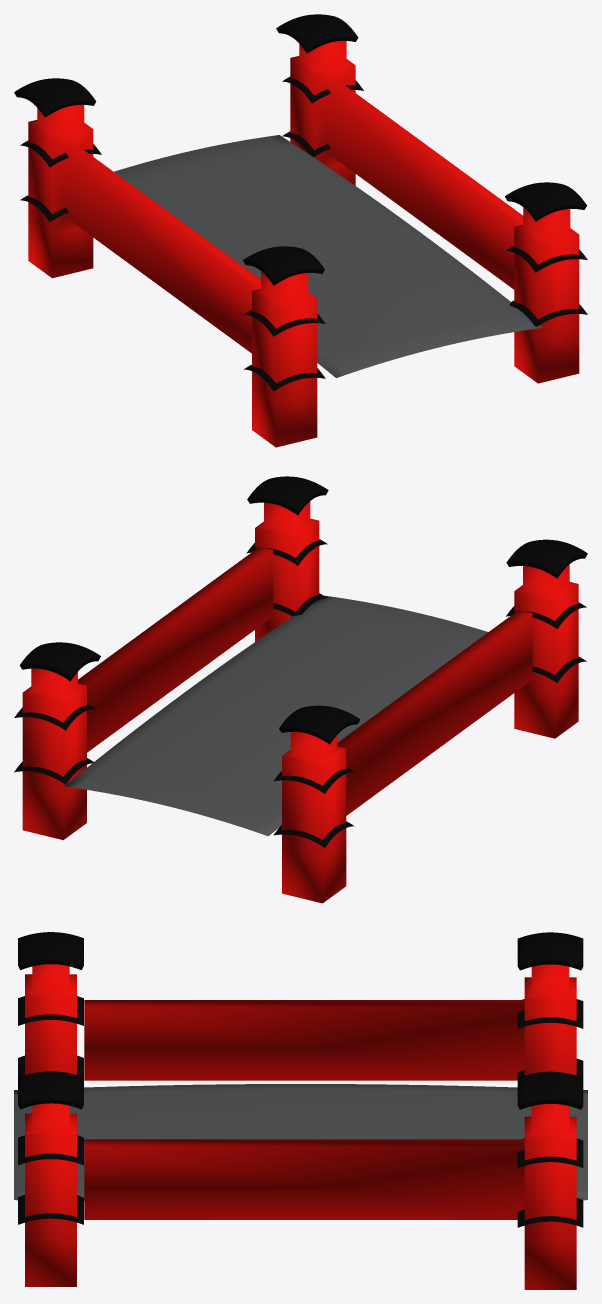
The model's file is japaneceBrige.fbx.
3 views of the same model, one above another, from view 1: azimuth 30°, elevation 25°; view 2: azimuth 150°, elevation 25°; view 3: azimuth 270°, elevation 25° (orthographic). The views are drawn at different scales.
Visible parts, largest first — view 1: NURBSサーフェス, Cube.001, Cube, Cube.002, Cube.003, NURBSサーフェス.002, NURBSサーフェス.008, NURBSサーフェス.012, NURBSサーフェス.004, NURBSサーフェス.011, NURBSサーフェス.007; view 2: NURBSサーフェス, Cube.001, Cube, Cube.002, Cube.003, NURBSサーフェス.012, NURBSサーフェス.004, NURBSサーフェス.002, NURBSサーフェス.008, NURBSサーフェス.003, NURBSサーフェス.006; view 3: Cube, Cube.001, NURBSサーフェス, Cube.003, Cube.002, NURBSサーフェス.004, NURBSサーフェス.002, NURBSサーフェス.012, NURBSサーフェス.008, NURBSサーフェス.011, NURBSサーフェス.007, NURBSサーフェス.010 (+3 smaller).
Boxes of the visible parts, x1=… form: NURBSサーフェス: x1=114, y1=135, x2=542, y2=377; Cube.001: x1=28, y1=105, x2=260, y2=353; Cube: x1=290, y1=41, x2=523, y2=289; Cube.002: x1=252, y1=271, x2=317, y2=447; Cube.003: x1=514, y1=207, x2=579, y2=383; NURBSサーフェス.002: x1=276, y1=14, x2=358, y2=53; NURBSサーフェス.008: x1=243, y1=246, x2=324, y2=285; NURBSサーフェス.012: x1=505, y1=182, x2=586, y2=221; NURBSサーフェス.004: x1=14, y1=78, x2=96, y2=117; NURBSサーフェス.011: x1=506, y1=246, x2=587, y2=272; NURBSサーフェス.007: x1=243, y1=310, x2=325, y2=336; NURBSサーフェス: x1=64, y1=595, x2=488, y2=836; Cube.001: x1=282, y1=610, x2=532, y2=903; Cube: x1=22, y1=546, x2=273, y2=840; Cube.002: x1=514, y1=564, x2=578, y2=738; Cube.003: x1=255, y1=501, x2=319, y2=641; NURBSサーフェス.012: x1=247, y1=476, x2=328, y2=515; NURBSサーフェス.004: x1=279, y1=705, x2=360, y2=744; NURBSサーフェス.002: x1=19, y1=642, x2=100, y2=681; NURBSサーフェス.008: x1=506, y1=539, x2=587, y2=578; NURBSサーフェス.003: x1=273, y1=767, x2=354, y2=793; NURBSサーフェス.006: x1=14, y1=758, x2=93, y2=784; Cube: x1=84, y1=1104, x2=576, y2=1289; Cube.001: x1=84, y1=964, x2=576, y2=1080; NURBSサーフェス: x1=14, y1=1084, x2=587, y2=1200; Cube.003: x1=25, y1=1103, x2=76, y2=1286; Cube.002: x1=25, y1=964, x2=76, y2=1074; NURBSサーフェス.004: x1=517, y1=932, x2=583, y2=970; NURBSサーフェス.002: x1=517, y1=1071, x2=583, y2=1109; NURBSサーフェス.012: x1=18, y1=1071, x2=83, y2=1109; NURBSサーフェス.008: x1=18, y1=932, x2=83, y2=969; NURBSサーフェス.011: x1=18, y1=1135, x2=83, y2=1165; NURBSサーフェス.007: x1=18, y1=996, x2=83, y2=1025; NURBSサーフェス.010: x1=18, y1=1195, x2=83, y2=1224.
Size of the model in its own units: 613 by 331 by 873.
